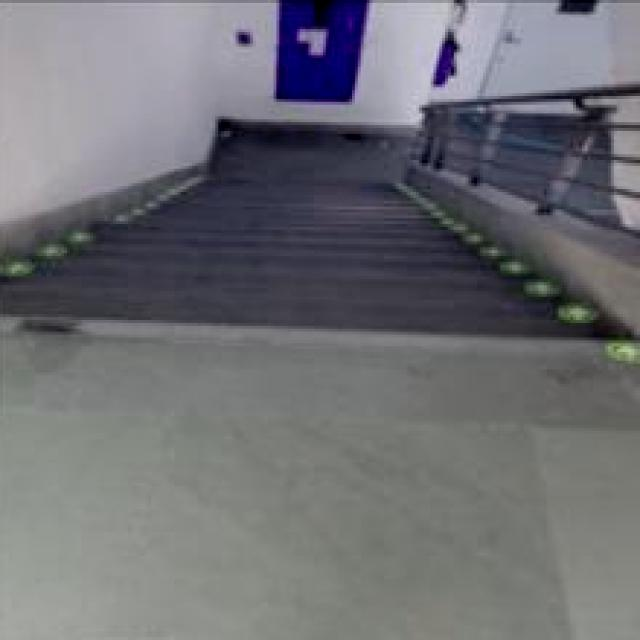downstair: (80, 217, 493, 409)
